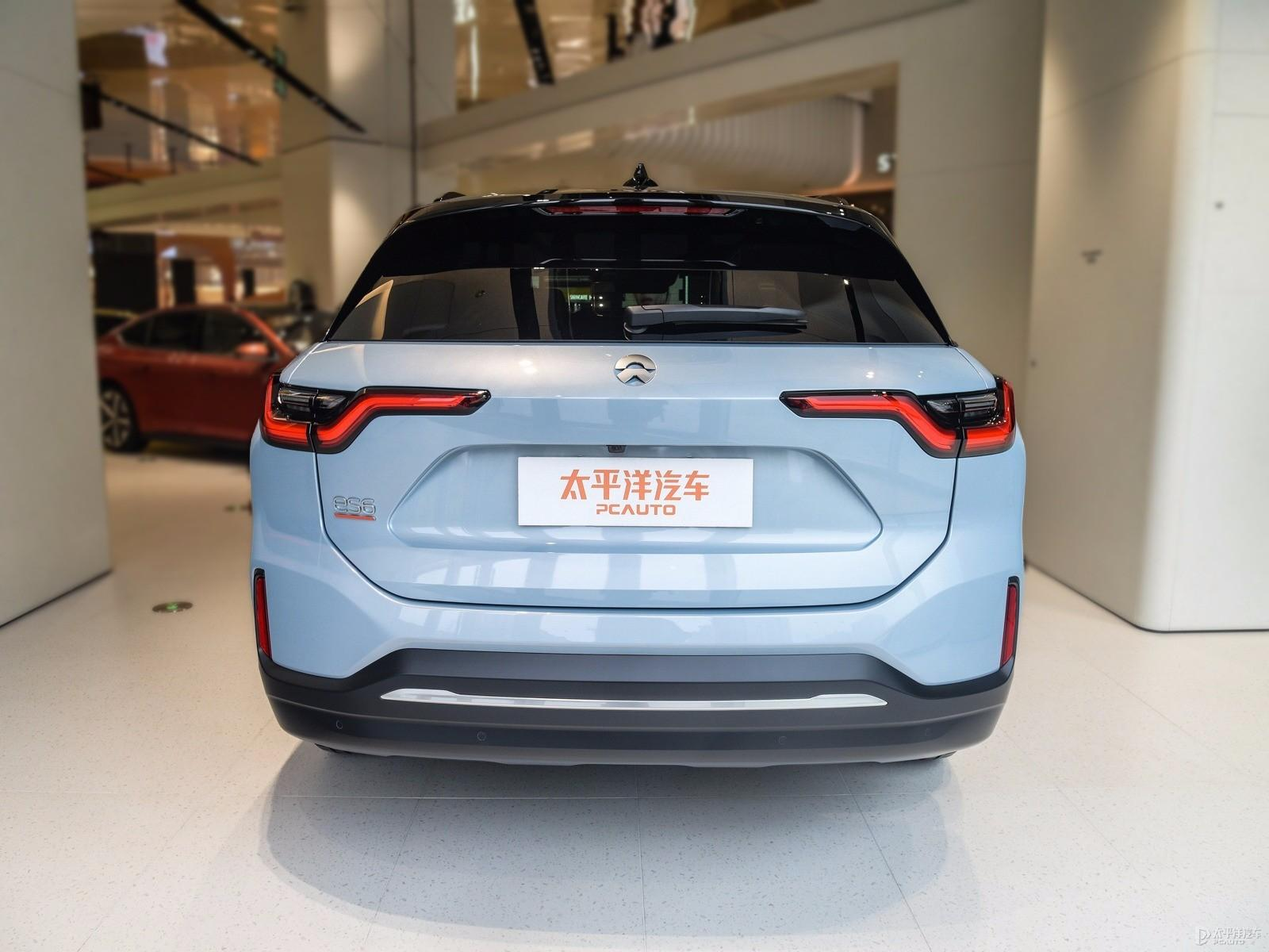NIO: (612, 353, 656, 385)
